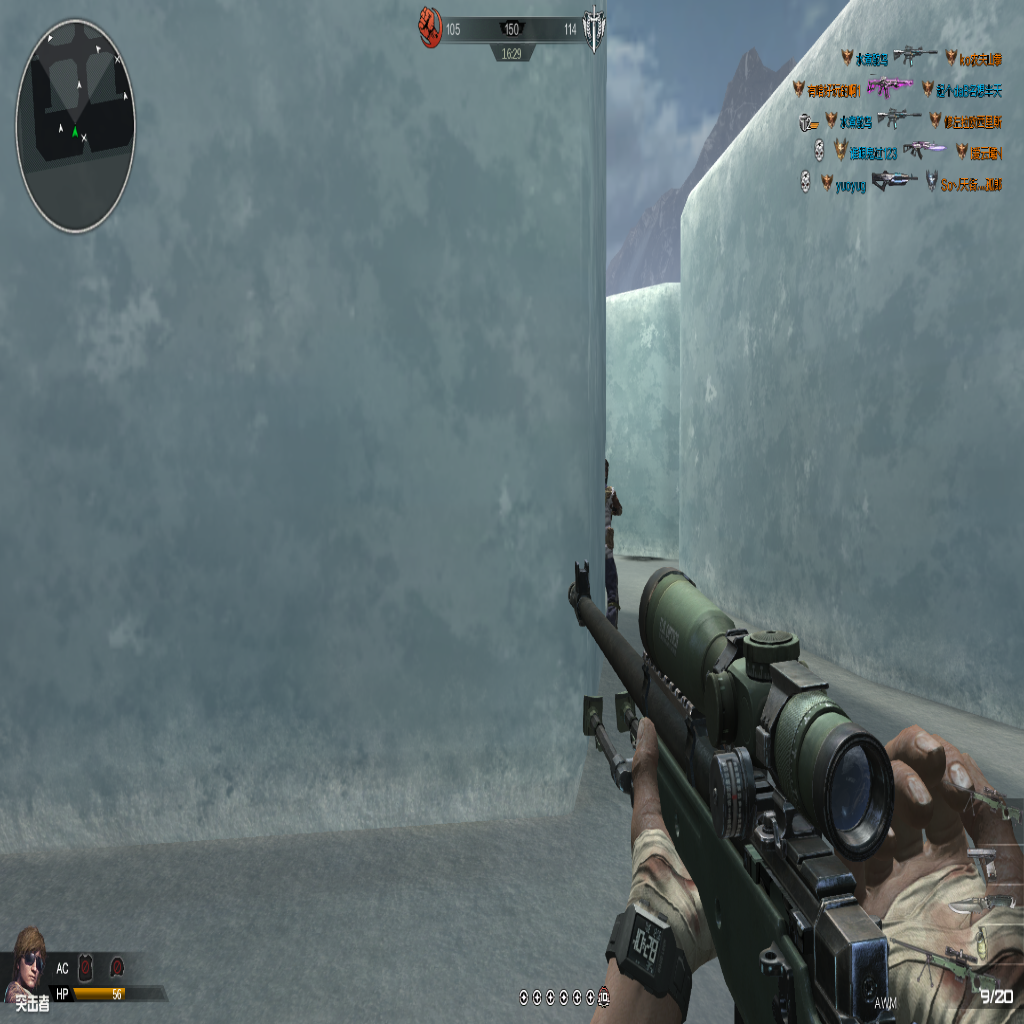tt: (602, 457, 621, 635)
